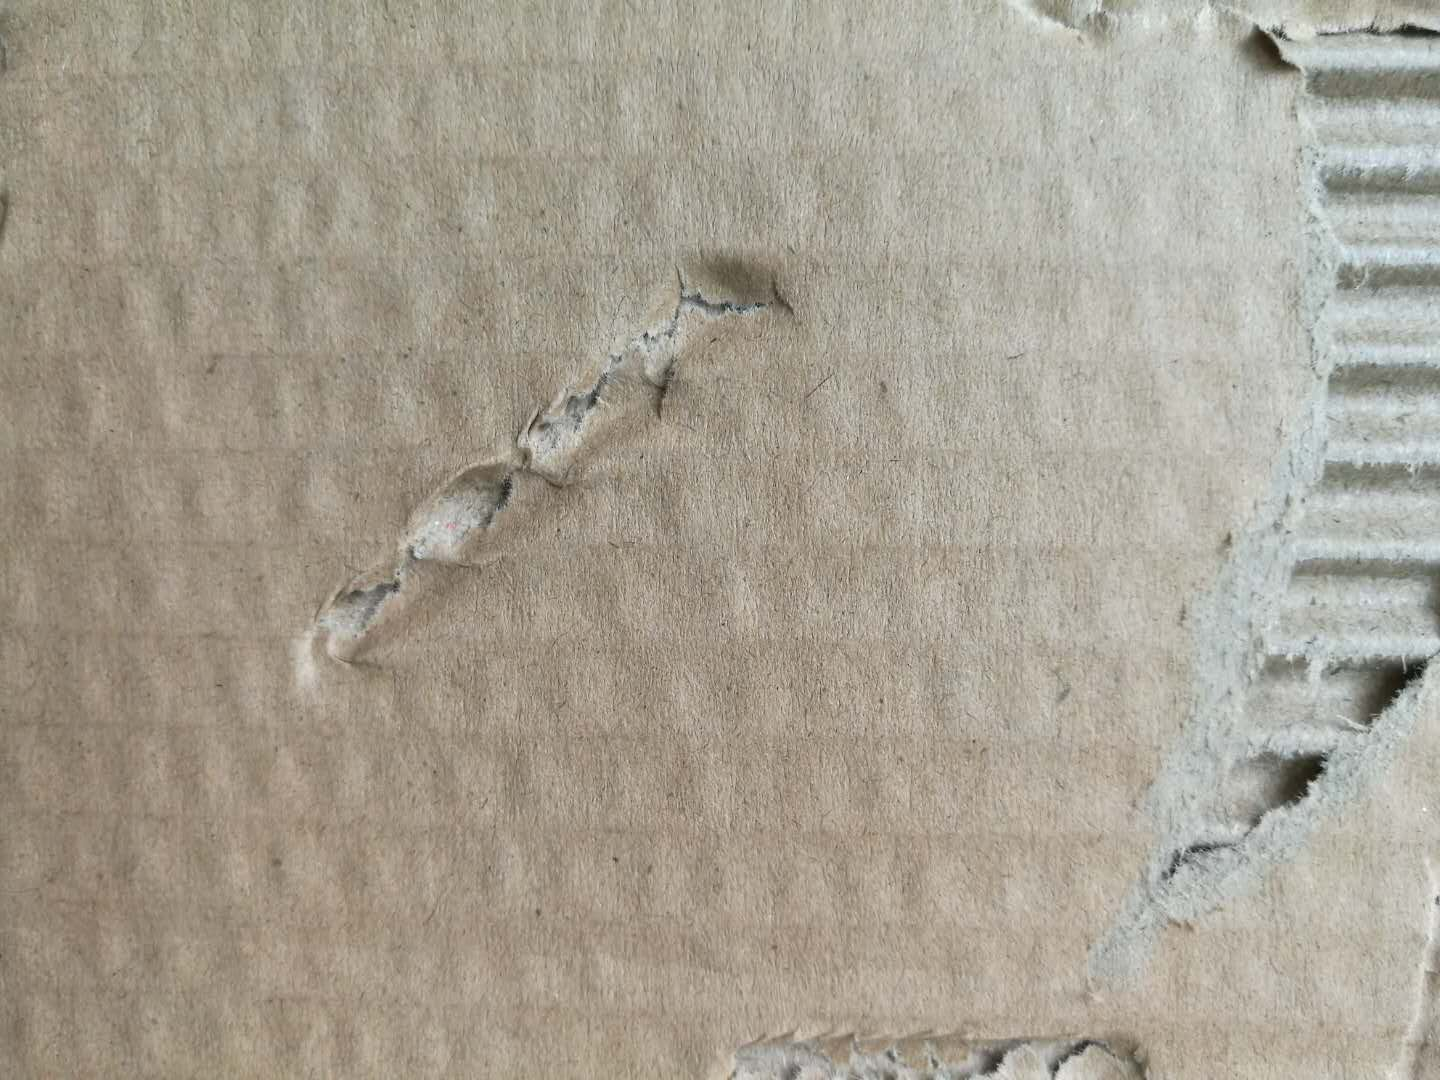defect: (974, 1, 1440, 1005), (245, 227, 844, 723), (691, 999, 1157, 1080), (1382, 849, 1439, 1080)
